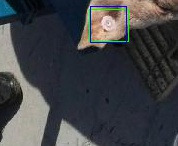text: (89, 9, 128, 41)
